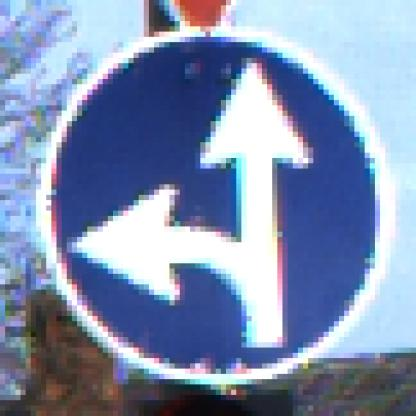Straight or Left: (37, 38, 381, 380)
